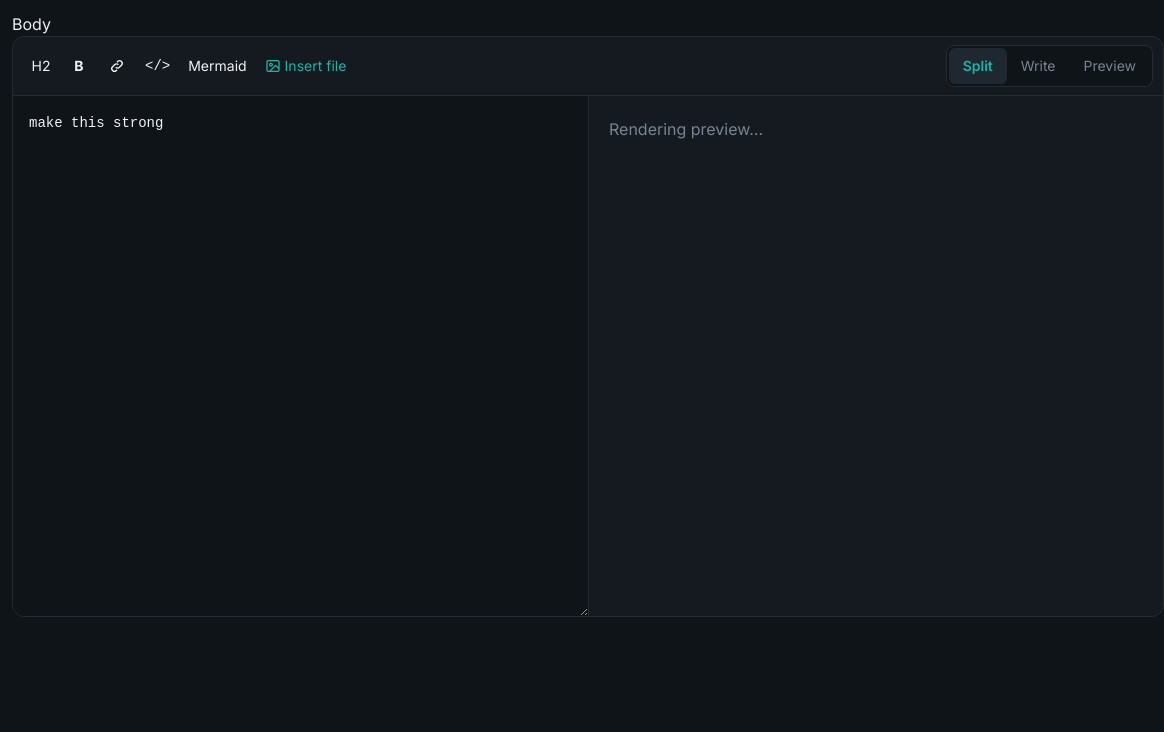
Test: MarkdownEditor writing area › Bold wraps the selection
The width and height of the screenshot is (1164, 732).
Click the button named "Bold": point(79, 66) [61,48,97,84]
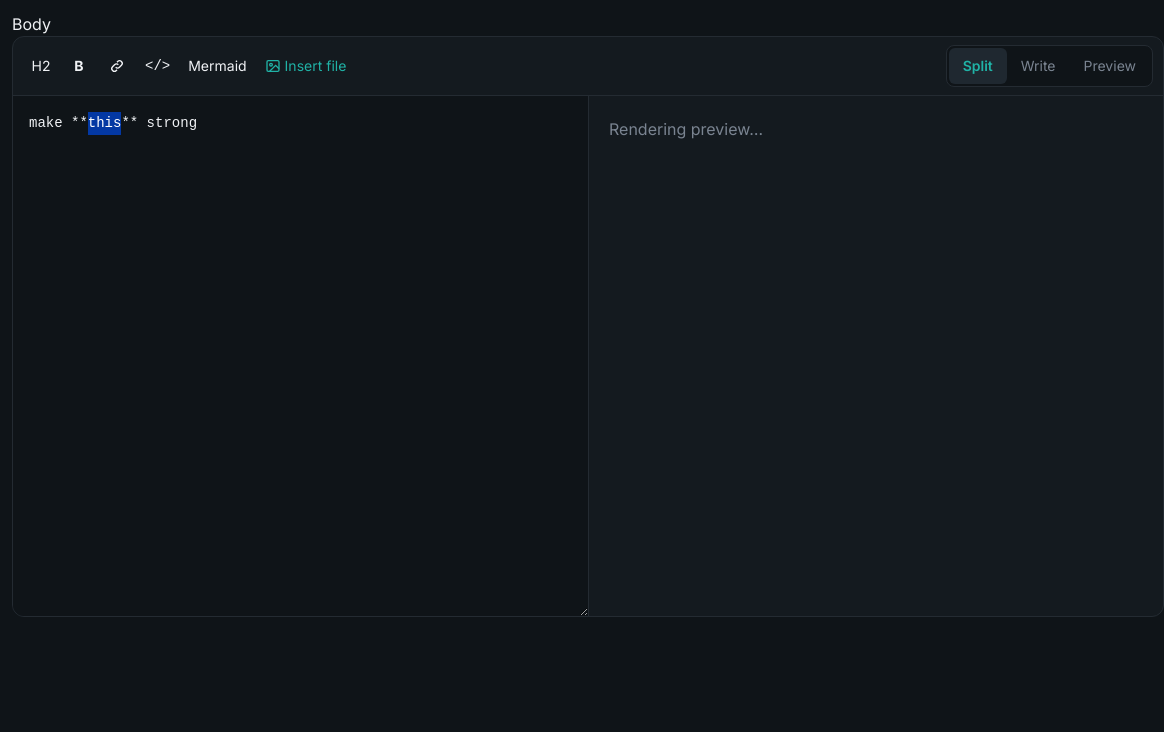
Expected: the text box labelled "Body" holds "make **this** strong", [13,96,588,616]
